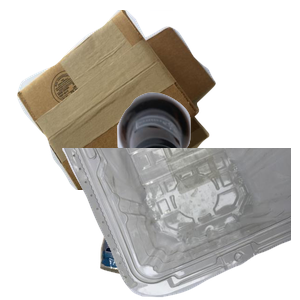cardboard: (14, 10, 222, 190)
glass: (115, 90, 300, 270)
plastic: (60, 148, 300, 300)
trash: (97, 152, 248, 300)
